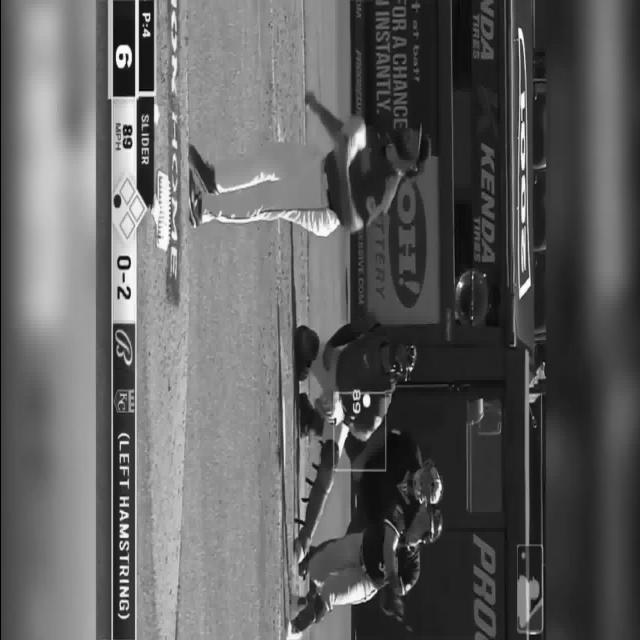baseball_glove: (338, 113, 364, 167), (314, 389, 345, 425)
shoe: (188, 144, 216, 194), (294, 324, 318, 380), (188, 168, 202, 228), (298, 392, 314, 438), (289, 594, 306, 620), (293, 536, 305, 564), (298, 552, 310, 578), (287, 618, 302, 636)
